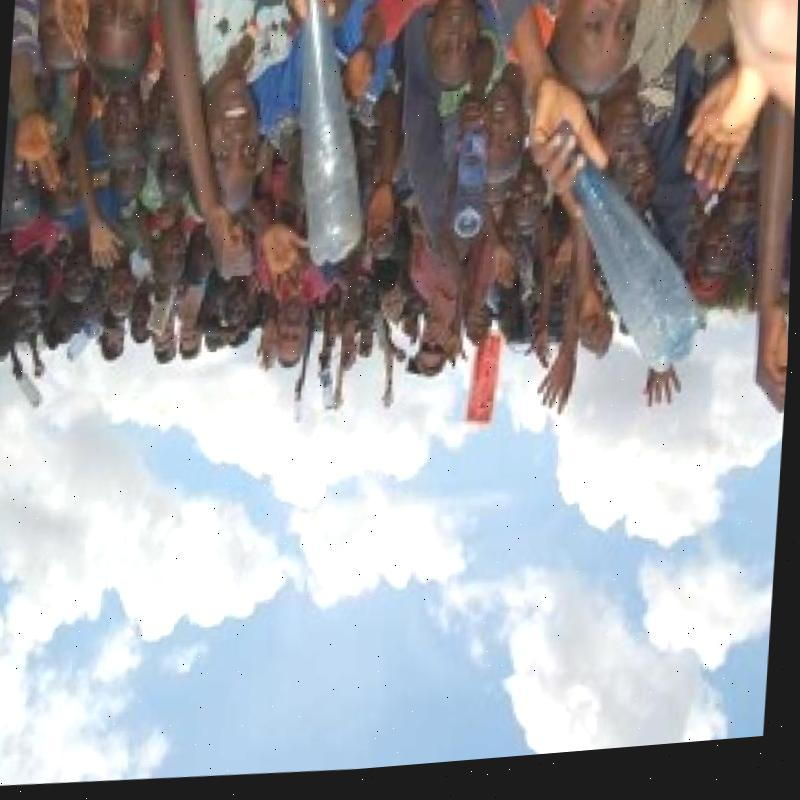botella: (555, 149, 709, 388), (279, 0, 375, 279)
